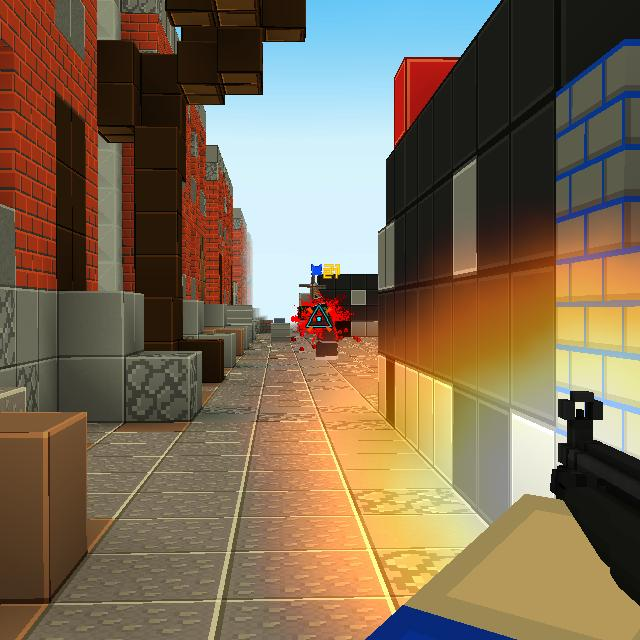enemy: (309, 303, 339, 361)
